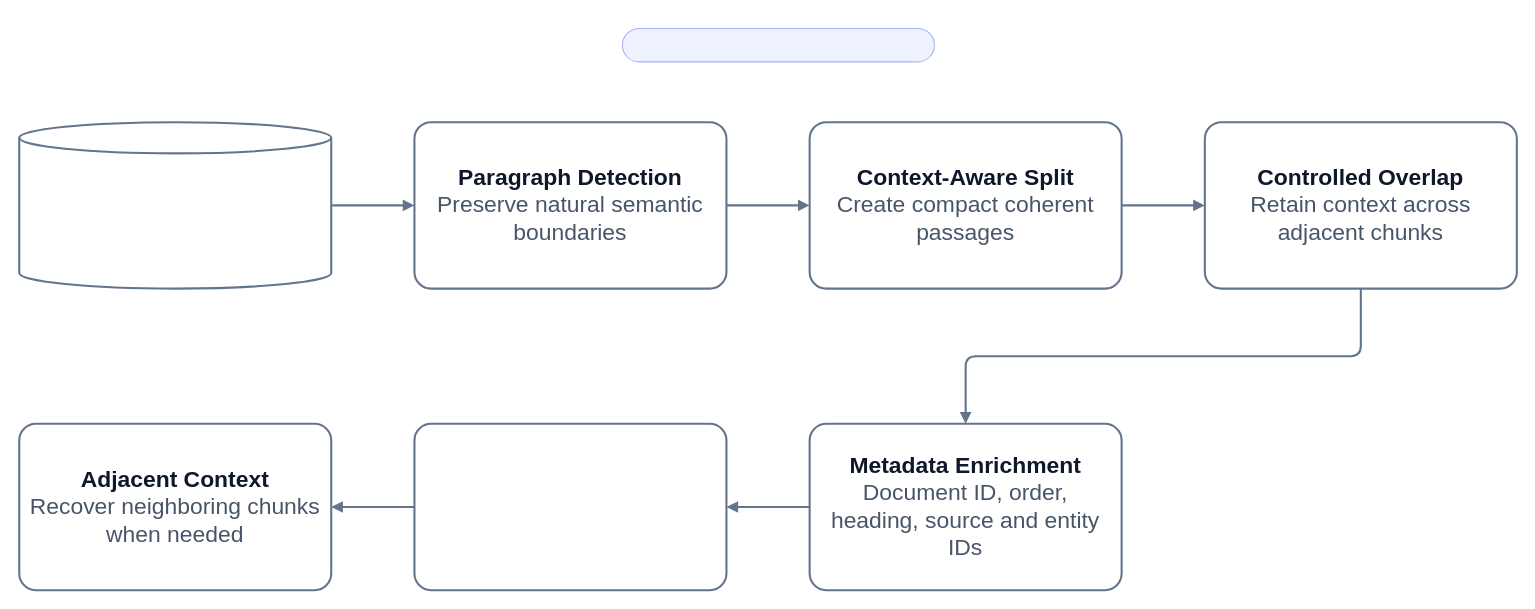
This 1535x609 diagram has some shape labels left out. Each missing label, with the centre of its shape:
"Document Chunks Retrieval units stored with provenance" goes at point (570, 506).
"MongoDB Document Clean content, section structure and metadata" goes at point (175, 205).
"STRUCTURE-AWARE CHUNKING" goes at point (777, 45).
